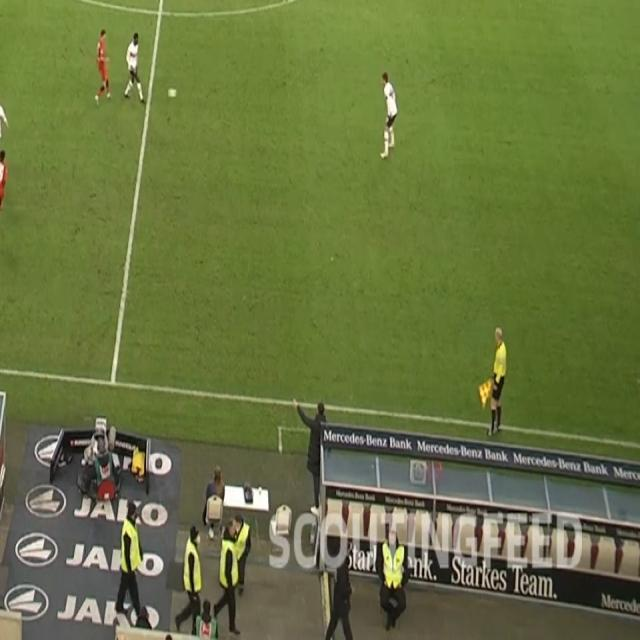ball: (166, 86, 178, 100)
